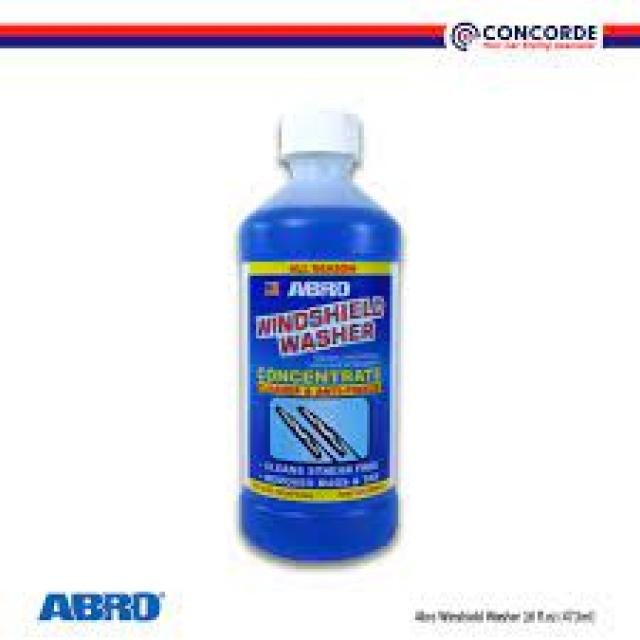winwinshield_washer: (232, 100, 408, 575)
